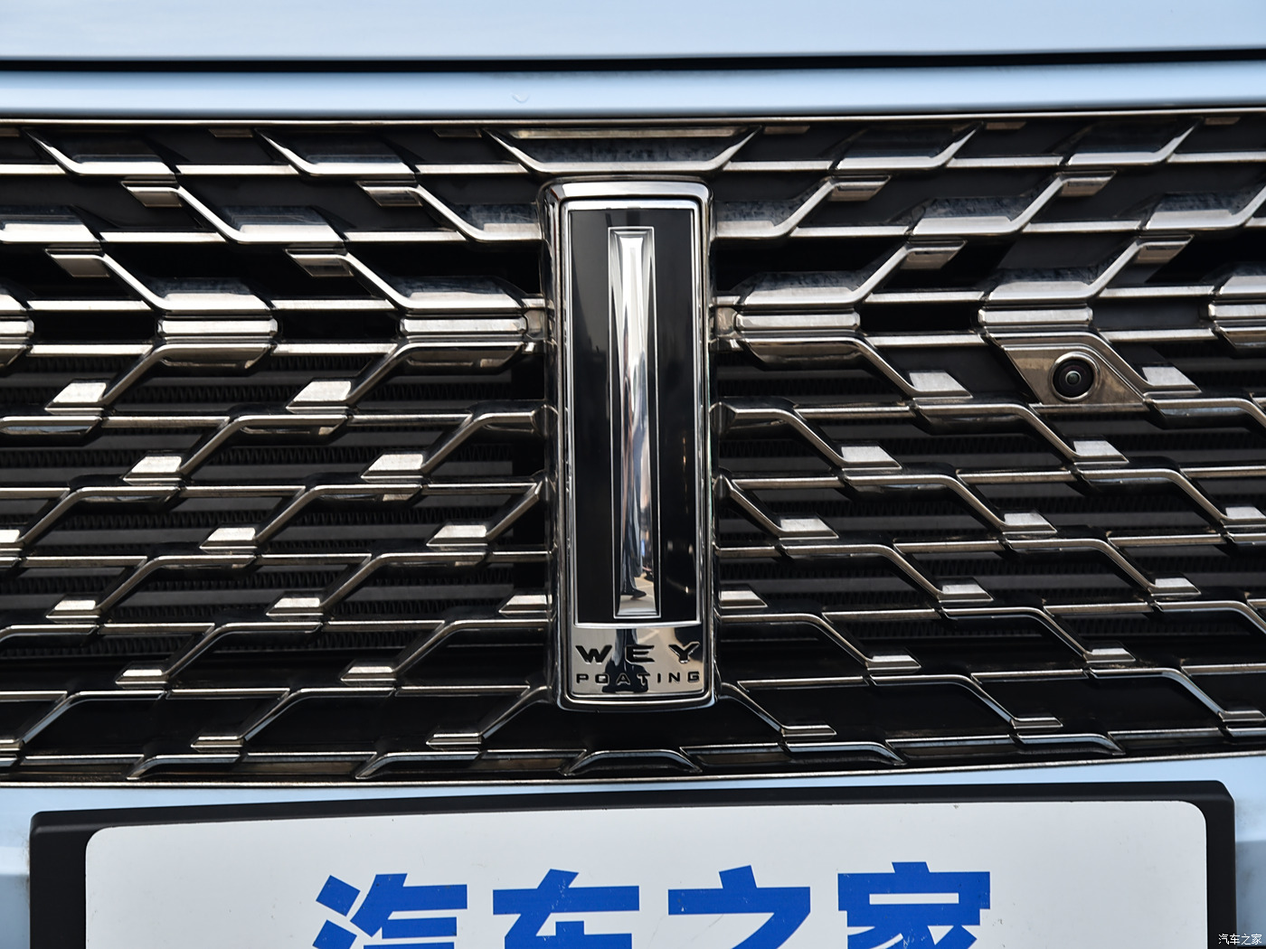WEY: (562, 202, 700, 703)
